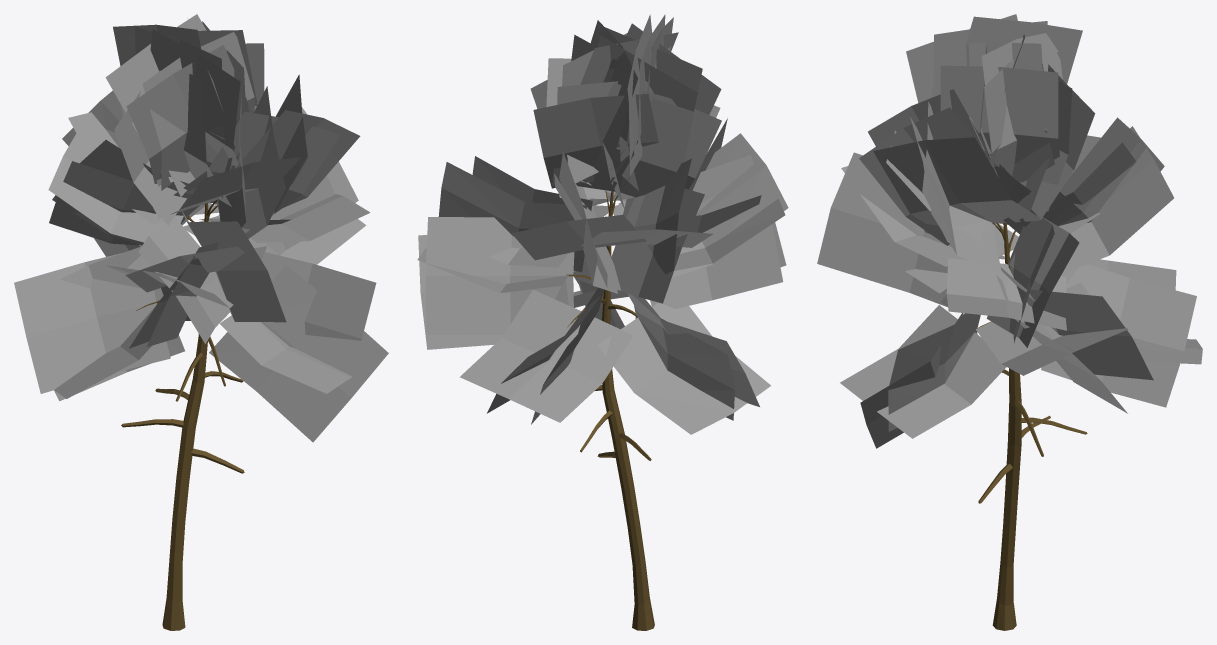
Rendered from Tree_Fay_Blue3.fbx.
3 renders of one model, left to right at view 1: azimuth 30°, elevation 25°; view 2: azimuth 150°, elevation 25°; view 3: azimuth 270°, elevation 25°, orthographic. The views are drawn at different scales.
Parts seen in each view (by area): view 1: Mesh; view 2: Mesh; view 3: Mesh.
Part boxes in pixels (<box>): Mesh: <box>14,14,388,630</box>; Mesh: <box>417,14,788,630</box>; Mesh: <box>817,14,1202,630</box>.
Size of the model in its own units: 1853 by 3276 by 1868.
